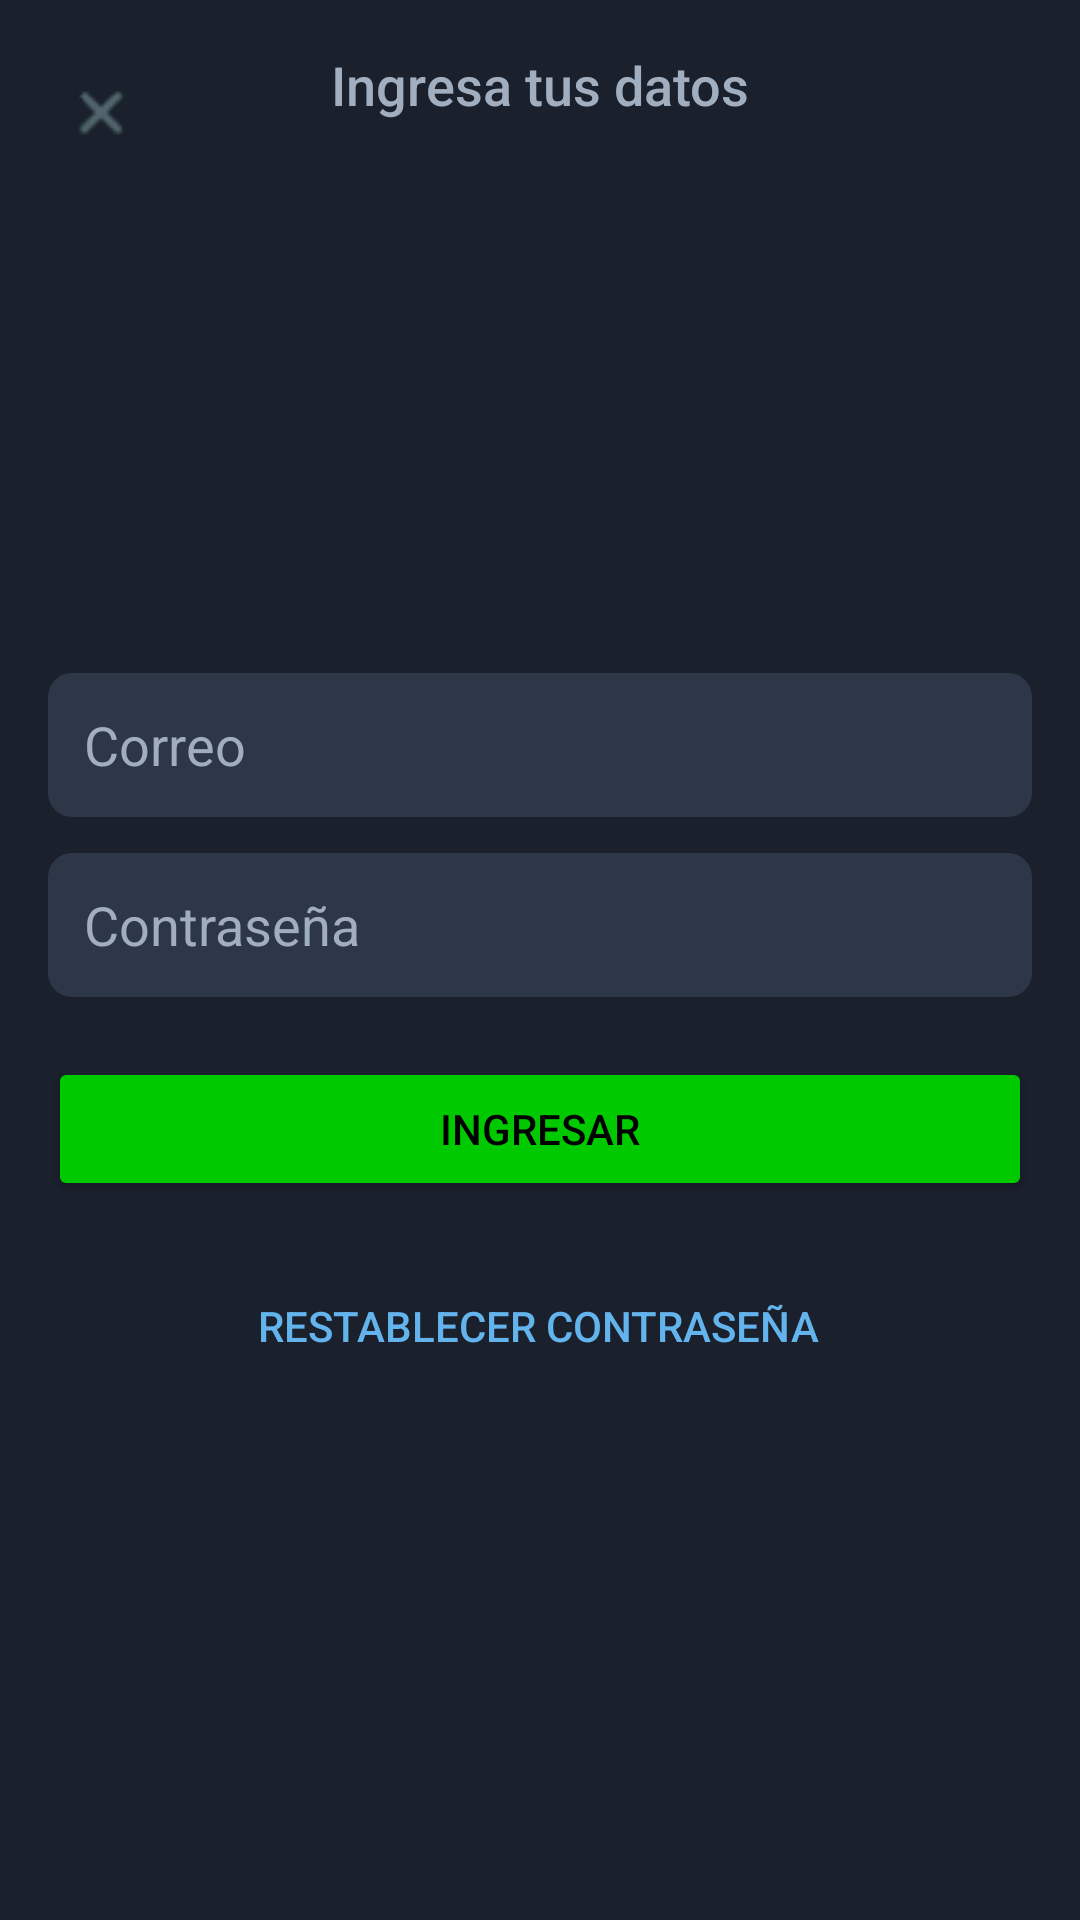

Screen size 1080px×1920px. Icon name, then its center in pixels as point (x, y):
Cerrar: point (101, 113)
